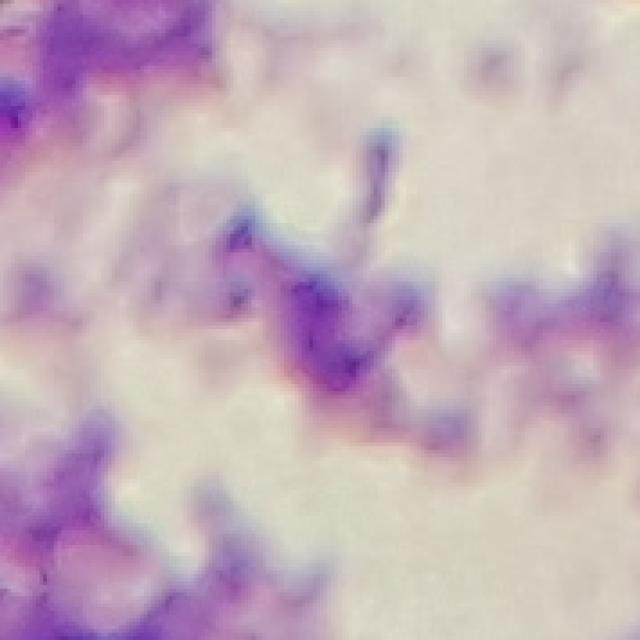non-sperm: (206, 202, 429, 441)
